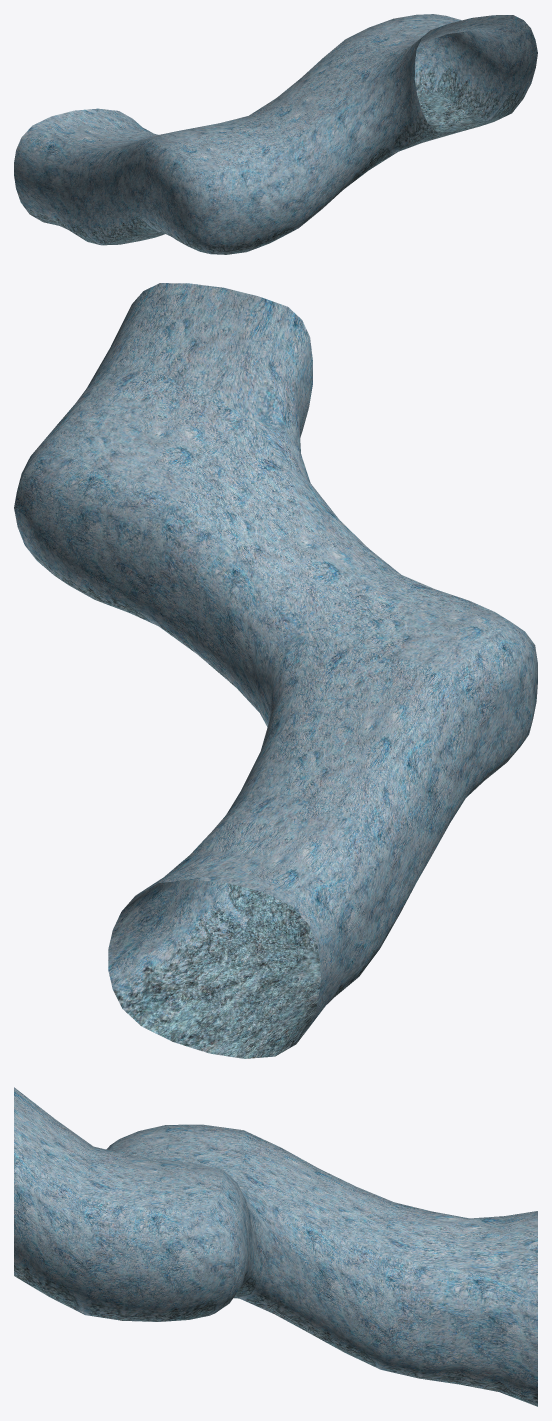
Rendered from thm_all_cave_flatland_s01_ice_r2_mesh_r2.fbx.
3 views of the same model, one above another, from view 1: azimuth 30°, elevation 25°; view 2: azimuth 150°, elevation 25°; view 3: azimuth 270°, elevation 25° (orthographic). The views are drawn at different scales.
Parts seen in each view (by area): view 1: mesh_node; view 2: mesh_node; view 3: mesh_node.
Part boxes in pixels (box(x1,y1,x2,y2)): mesh_node: box(14, 14, 537, 254); mesh_node: box(14, 283, 537, 1058); mesh_node: box(14, 1087, 537, 1406).
Bounding box in the file's own units: 33.65 × 29.66 × 35.32.
